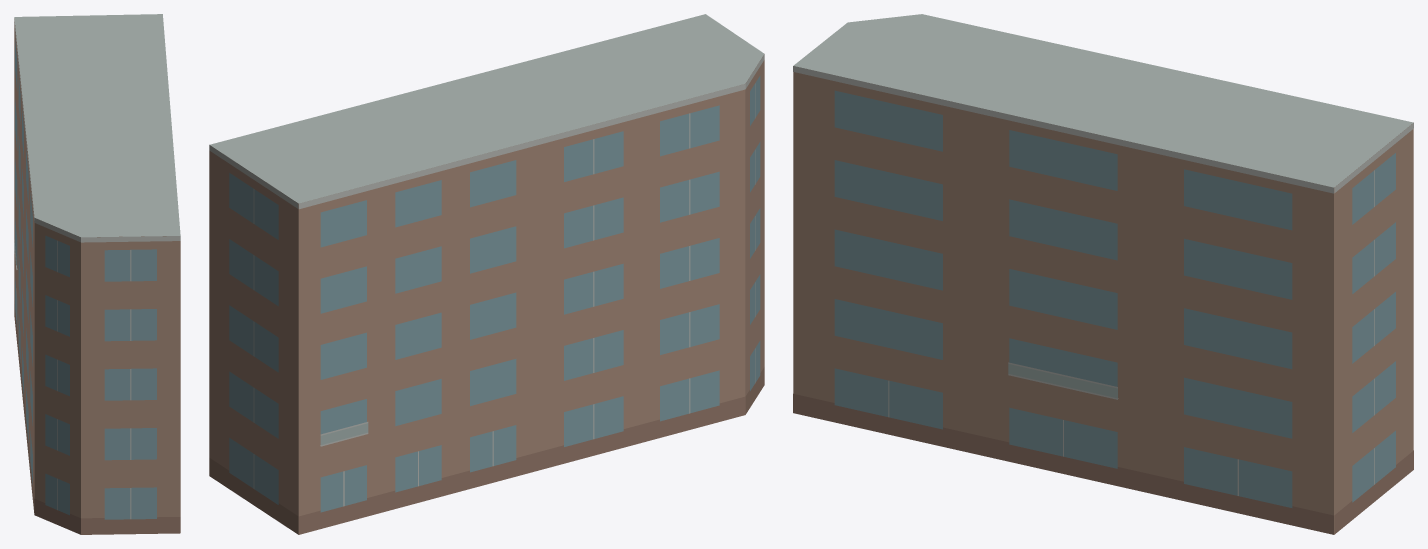
The model's file is survey-upis-32920441.glb.
3 renders of one model, left to right at view 1: azimuth 30°, elevation 25°; view 2: azimuth 150°, elevation 25°; view 3: azimuth 270°, elevation 25°, orthographic. The views are drawn at different scales.
Parts seen in each view (by area): view 1: survey-upis-32920441.tmp; view 2: survey-upis-32920441.tmp; view 3: survey-upis-32920441.tmp.
Part boxes in pixels (x1,y1,x2,y2): survey-upis-32920441.tmp: (14, 14, 180, 534); survey-upis-32920441.tmp: (209, 14, 764, 534); survey-upis-32920441.tmp: (793, 14, 1413, 534).
Size of the model in its own units: 15.08 by 14.05 by 22.77.
